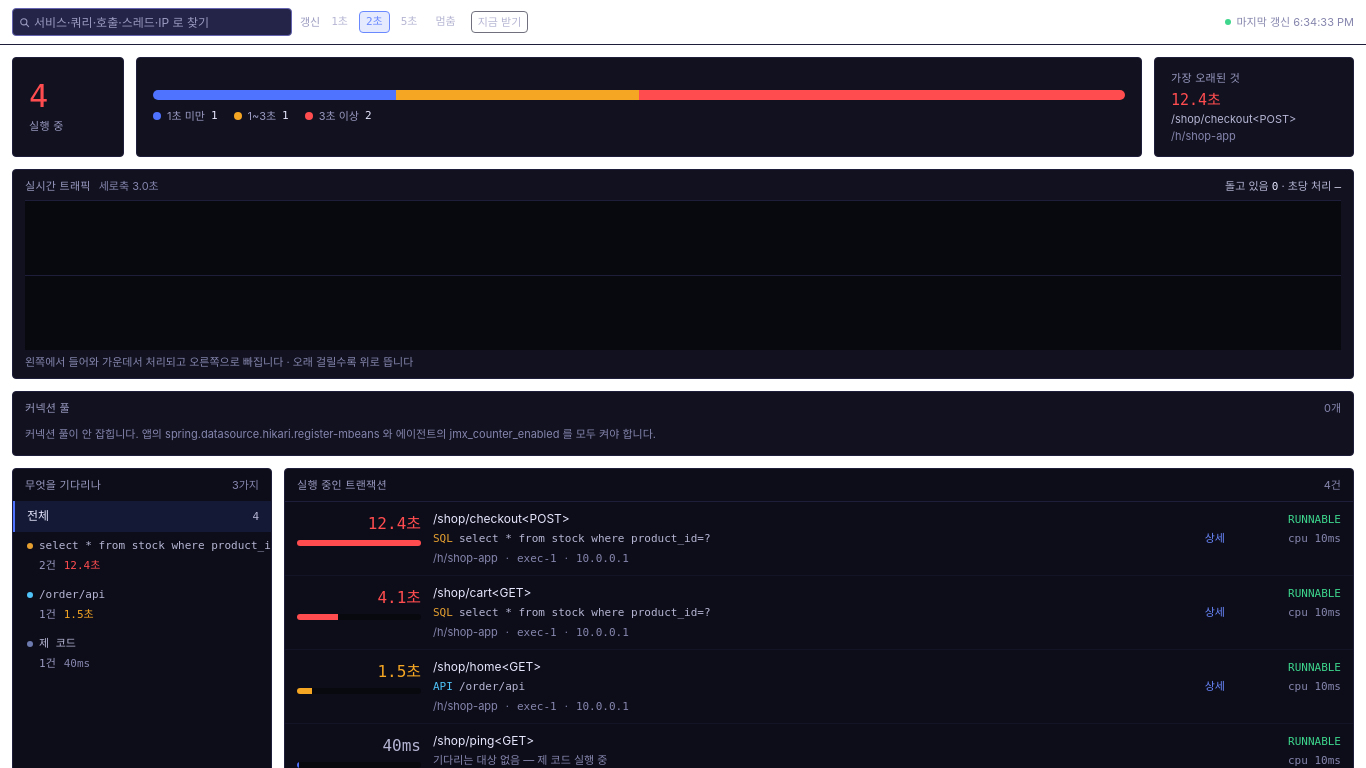
ActiveTab — 목록 › 찾으면 서비스·쿼리를 가로질러 줄인다
Type "order" into the field with placeholder "서비스·쿼리·호출·스레드·IP 로 찾기".
click(152, 22); type("order")  # box [12,8,292,36]
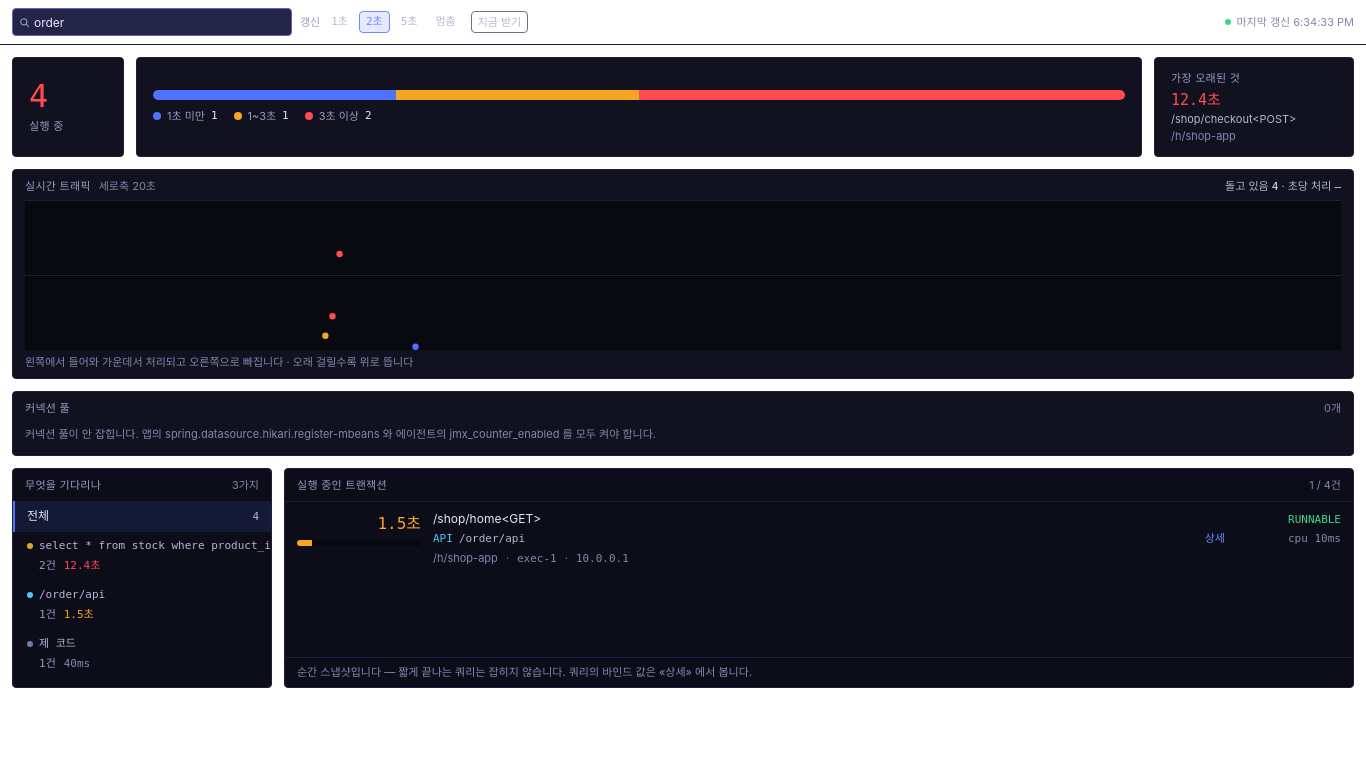
Result: the text "1 / 4건" is shown at [1309,476,1341,493]
